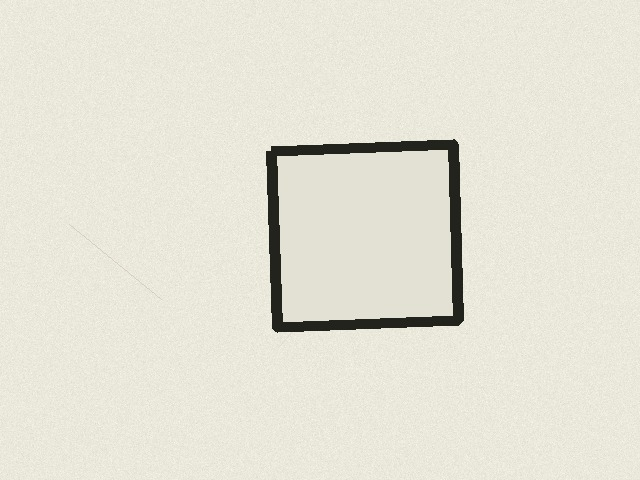parking_area: (271, 144, 458, 327)
